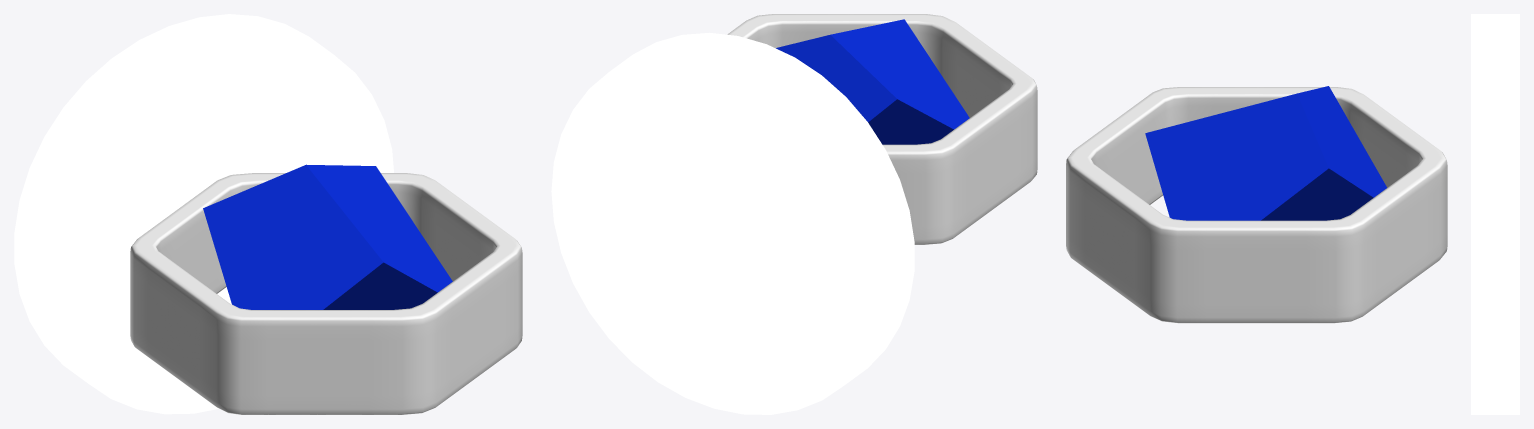
3 views of the same model, side by side, from view 1: azimuth 30°, elevation 25°; view 2: azimuth 150°, elevation 25°; view 3: azimuth 270°, elevation 25° (orthographic). The views are drawn at different scales.
Parts seen in each view (by area): view 1: pCylinder2, pCylinder1, pCube3; view 2: pCylinder2, pCylinder1, pCube3; view 3: pCylinder1, pCube3, pCylinder2.
Boxes of the visible parts, x1=… form: pCylinder2: x1=14, y1=14, x2=393, y2=414; pCylinder1: x1=130, y1=173, x2=522, y2=414; pCube3: x1=203, y1=164, x2=452, y2=309; pCylinder2: x1=551, y1=32, x2=914, y2=414; pCylinder1: x1=727, y1=14, x2=1037, y2=244; pCube3: x1=776, y1=19, x2=969, y2=144; pCylinder1: x1=1066, y1=87, x2=1447, y2=323; pCube3: x1=1145, y1=86, x2=1386, y2=220; pCylinder2: x1=1471, y1=14, x2=1519, y2=414.
Size of the model in its own units: 0.0329 by 0.0329 by 0.0372.
